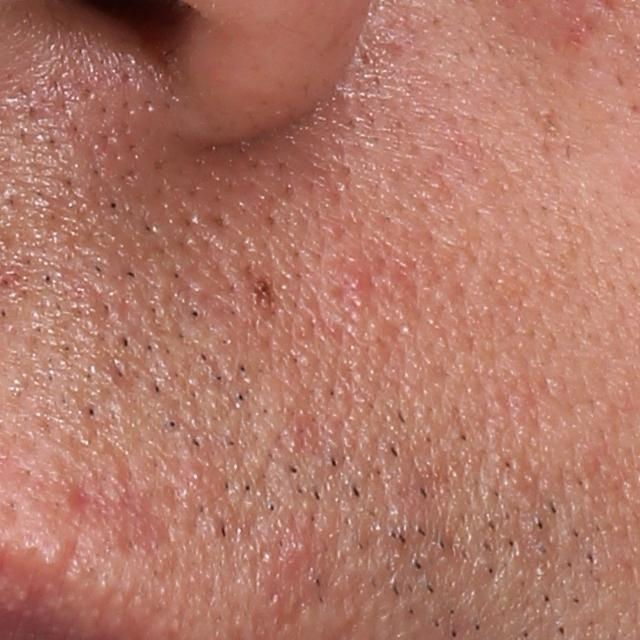nevus: (248, 273, 279, 314)
